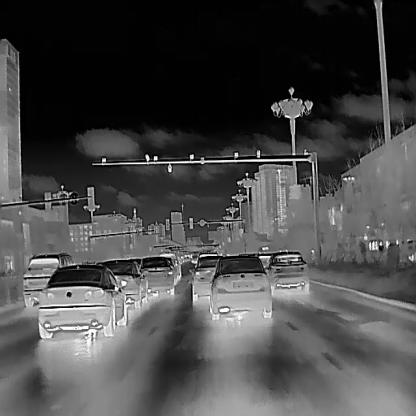car: (36, 263, 127, 338), (207, 252, 271, 318), (21, 253, 73, 308), (101, 257, 147, 307), (265, 250, 308, 292), (140, 254, 176, 296), (189, 254, 219, 302), (159, 250, 181, 284), (254, 252, 274, 275)
